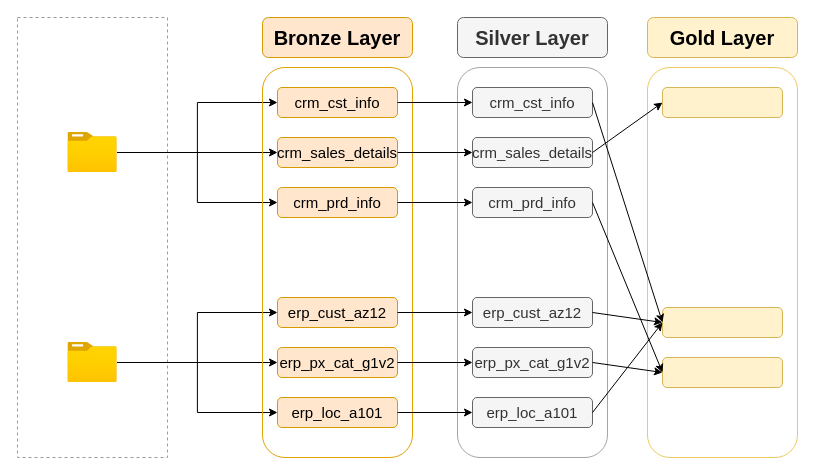
Some shapes in this 815 by 475 pixel diagram are drawn without their labels. The centre of each missing label's shape, as x and y in pixels:
CRM: the point at 92,152
dim_customers: the point at 722,322
dim_products: the point at 722,372
ERP: the point at 92,362
fact_sales: the point at 722,102
